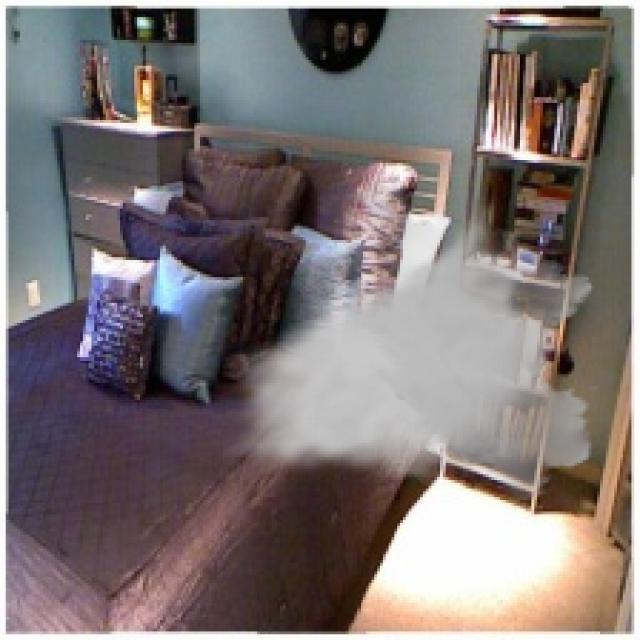smoke: (223, 168, 603, 512)
